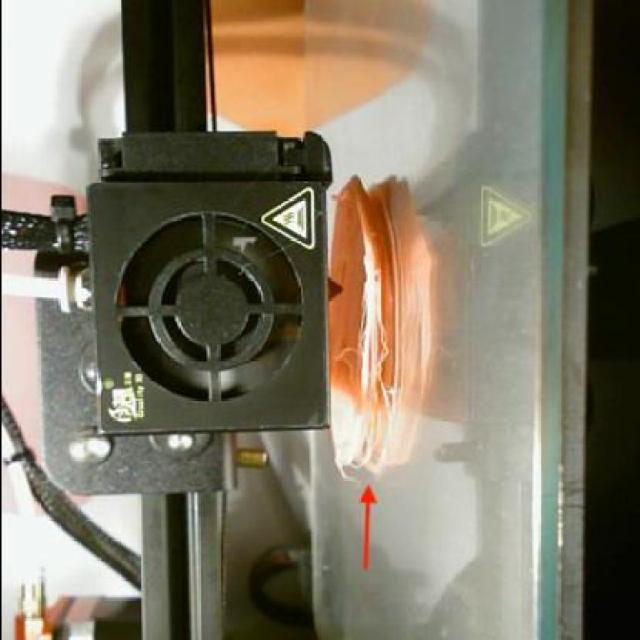Spaghetti: (328, 255, 398, 480)
